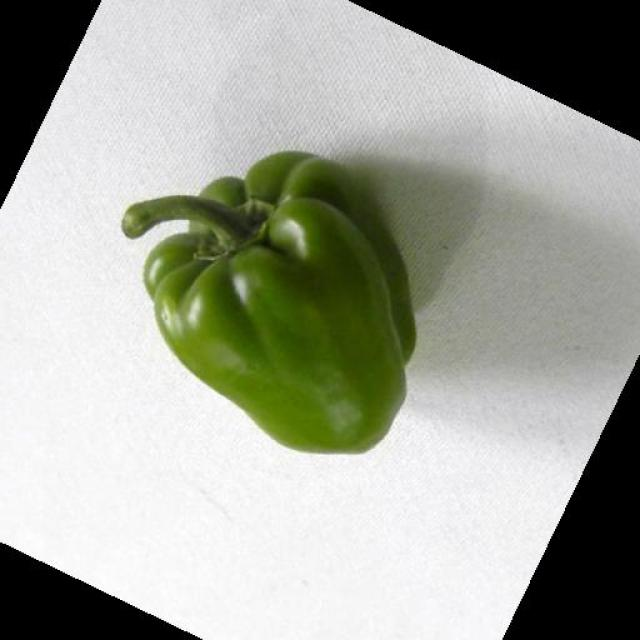Fresh_Capsicum: (118, 138, 440, 452)
